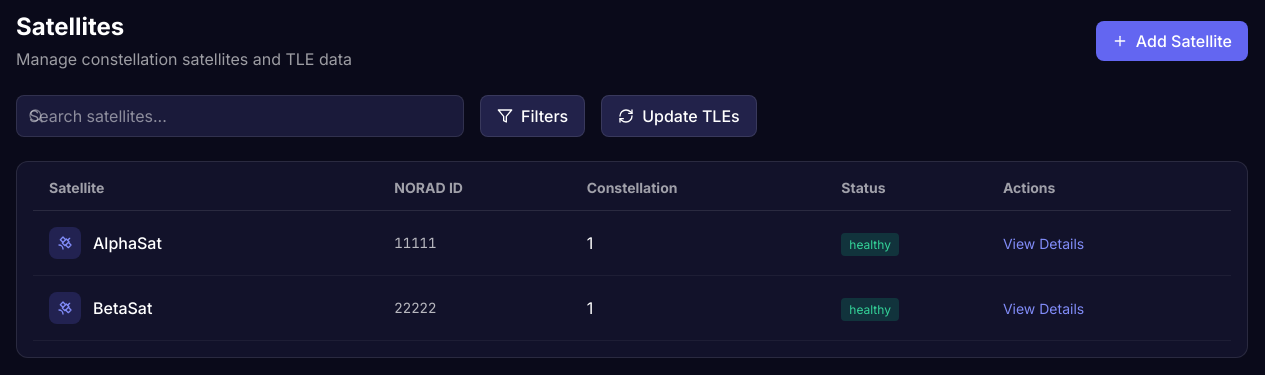
Satellites Page › should filter satellites based on search input
Check: the text "AlphaSat" is shown, box [93,231,162,255]
Step 1. Type "beta" into the field with placeholder "Search satellites..." → (240, 116), box [16,95,464,137]
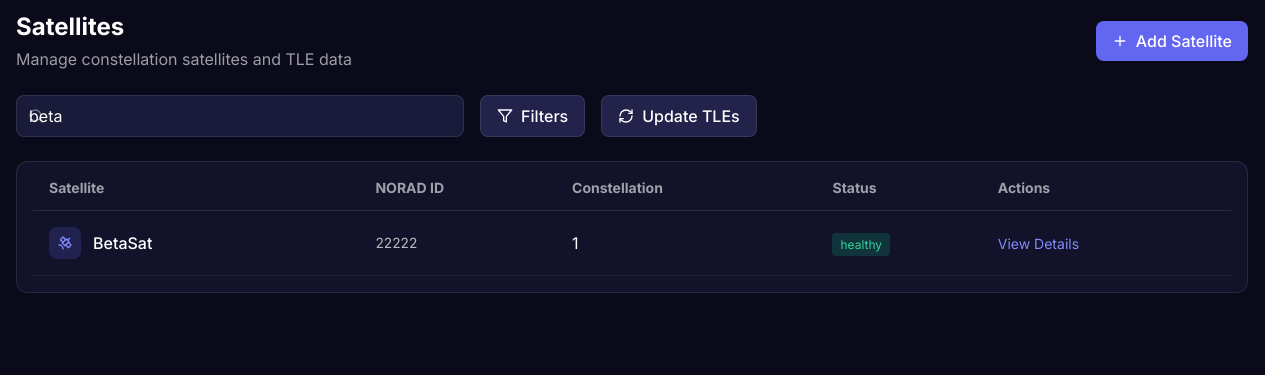
Check: the text "BetaSat" is shown, box [93,231,152,255]
Check: the text "AlphaSat" is gone
